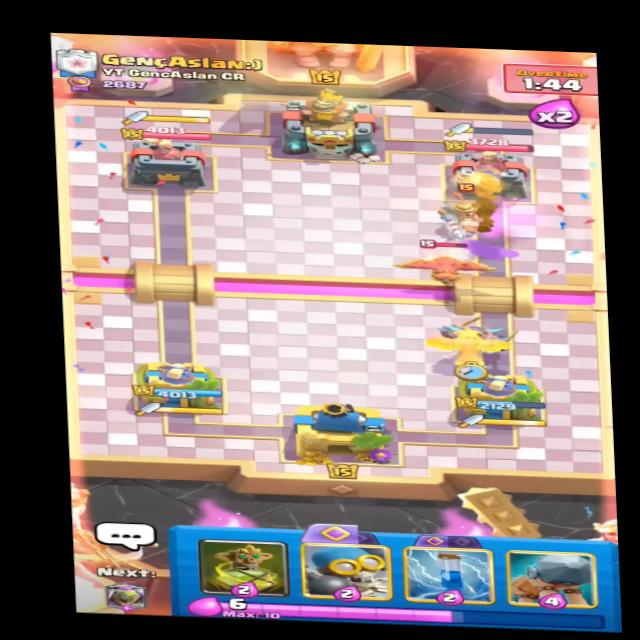phoenix: (388, 238, 500, 292)
prince: (426, 181, 500, 239)
